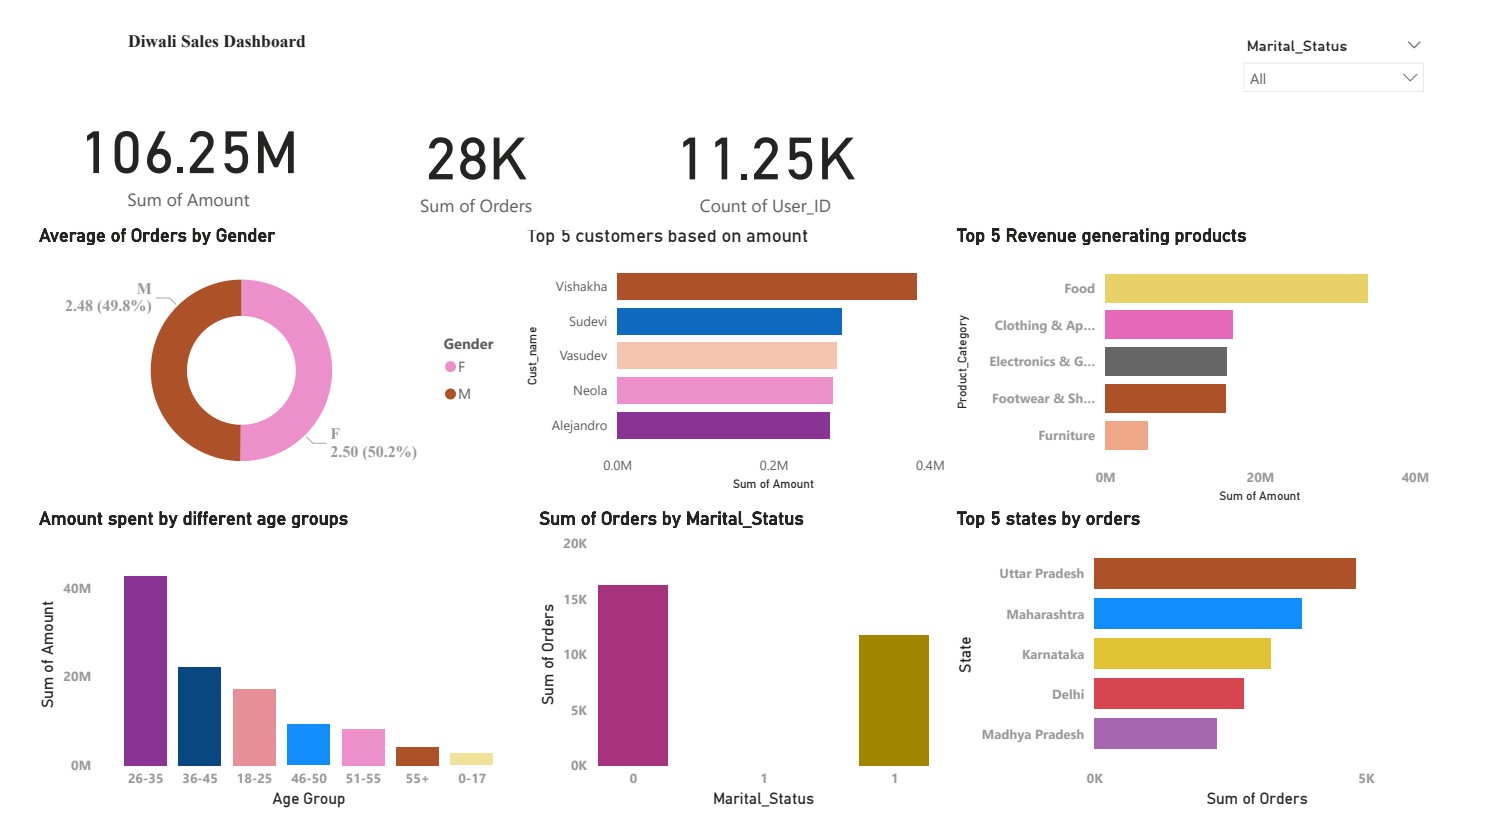

Layout of this report page (visuals, bound fields, positions):
{"tool":"powerbi","page":{"name":"Page 1","canvas":[1280,720],"ordinal":0},"visuals":[{"type":"textbox","box":[9.6,0,315.6,64.5],"z":0},{"type":"donutChart","fields":{"Category":["Diwali Sales Data.Gender"],"Y":["Diwali Sales Data.Orders"]},"box":[0,181.1,446,248.4],"z":1},{"type":"slicer","fields":{"Values":["Diwali Sales Data.Marital_Status"]},"box":[1095,5.5,185.2,175.6],"z":2},{"type":"columnChart","title":"Amount spent by different age groups","fields":{"Category":["Diwali Sales Data.Age Group"],"Y":["Diwali Sales Data.Amount"]},"box":[0,440.5,446,279.9],"z":3},{"type":"columnChart","fields":{"Y":["Diwali Sales Data.Orders"],"Category":["Diwali Sales Data.Marital_Status"]},"box":[456.9,440.5,366.4,279.9],"z":4},{"type":"barChart","title":"Top 5 customers based on amount","fields":{"Category":["Diwali Sales Data.Cust_name"],"Y":["Diwali Sales Data.Amount"]},"box":[446,181.1,392.5,248.4],"z":5},{"type":"barChart","title":"Top 5 states by orders","fields":{"Category":["Diwali Sales Data.State"],"Y":["Diwali Sales Data.Orders"]},"box":[838.4,440.5,441.9,279.9],"z":6},{"type":"barChart","title":"Top 5 Revenue generating products","fields":{"Category":["Diwali Sales Data.Product_Category"],"Y":["Diwali Sales Data.Amount"]},"box":[838.4,181.1,441.9,259.3],"z":7},{"type":"card","fields":{"Values":["Diwali Sales Data.Amount"]},"box":[9.6,59,263.5,122.1],"z":8},{"type":"card","fields":{"Values":["Diwali Sales Data.Orders"]},"box":[273.1,64.5,263.5,122.1],"z":9},{"type":"card","fields":{"Values":["Diwali Sales Data.User_ID"]},"box":[536.5,64.5,263.5,122.1],"z":10}]}

Visuals, with their boxes in screenshot pixels (x1, y1, x2, y2), scaled from the page's 1280x720 canvas onto the 1485x822 screenshot:
textbox: box=[11, 0, 377, 74]
donutChart - Diwali Sales Data.Gender x Diwali Sales Data.Orders: box=[0, 207, 517, 490]
slicer - Diwali Sales Data.Marital_Status: box=[1270, 6, 1484, 207]
"Amount spent by different age groups" columnChart: box=[0, 503, 517, 821]
columnChart - Diwali Sales Data.Orders x Diwali Sales Data.Marital_Status: box=[530, 503, 955, 821]
"Top 5 customers based on amount" barChart: box=[517, 207, 973, 490]
"Top 5 states by orders" barChart: box=[973, 503, 1484, 821]
"Top 5 Revenue generating products" barChart: box=[973, 207, 1484, 503]
card - Diwali Sales Data.Amount: box=[11, 67, 317, 207]
card - Diwali Sales Data.Orders: box=[317, 74, 623, 213]
card - Diwali Sales Data.User_ID: box=[622, 74, 928, 213]
